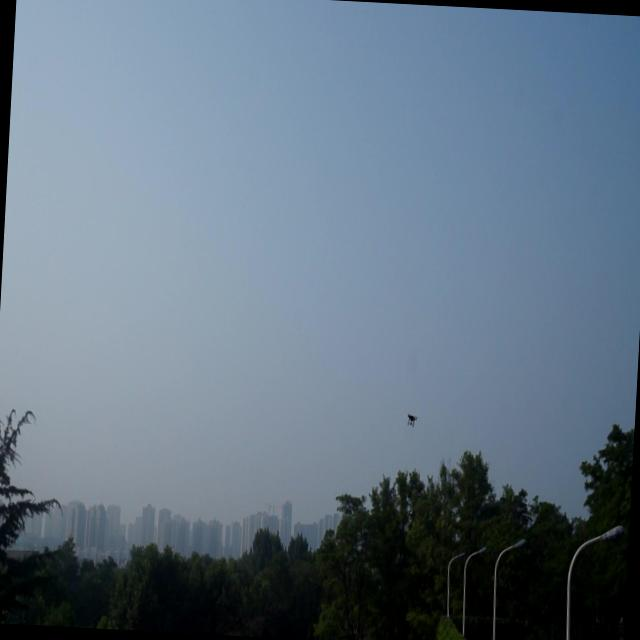drone: (404, 411, 418, 430)
